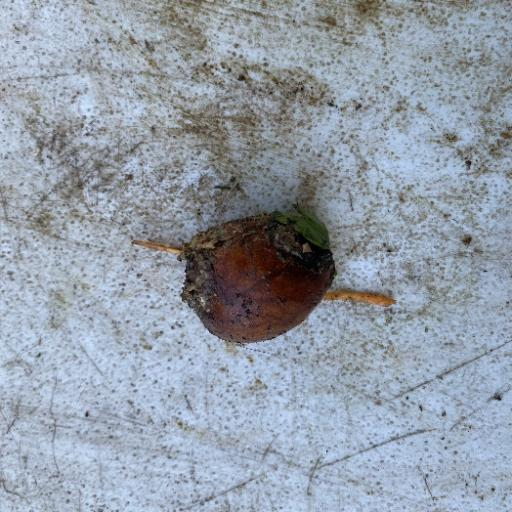Waste: (176, 203, 337, 345)
